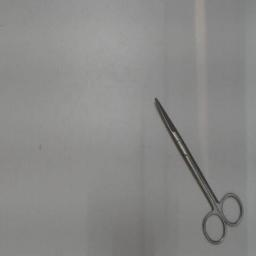Curved Mayo Scissors: (152, 94, 246, 248)
